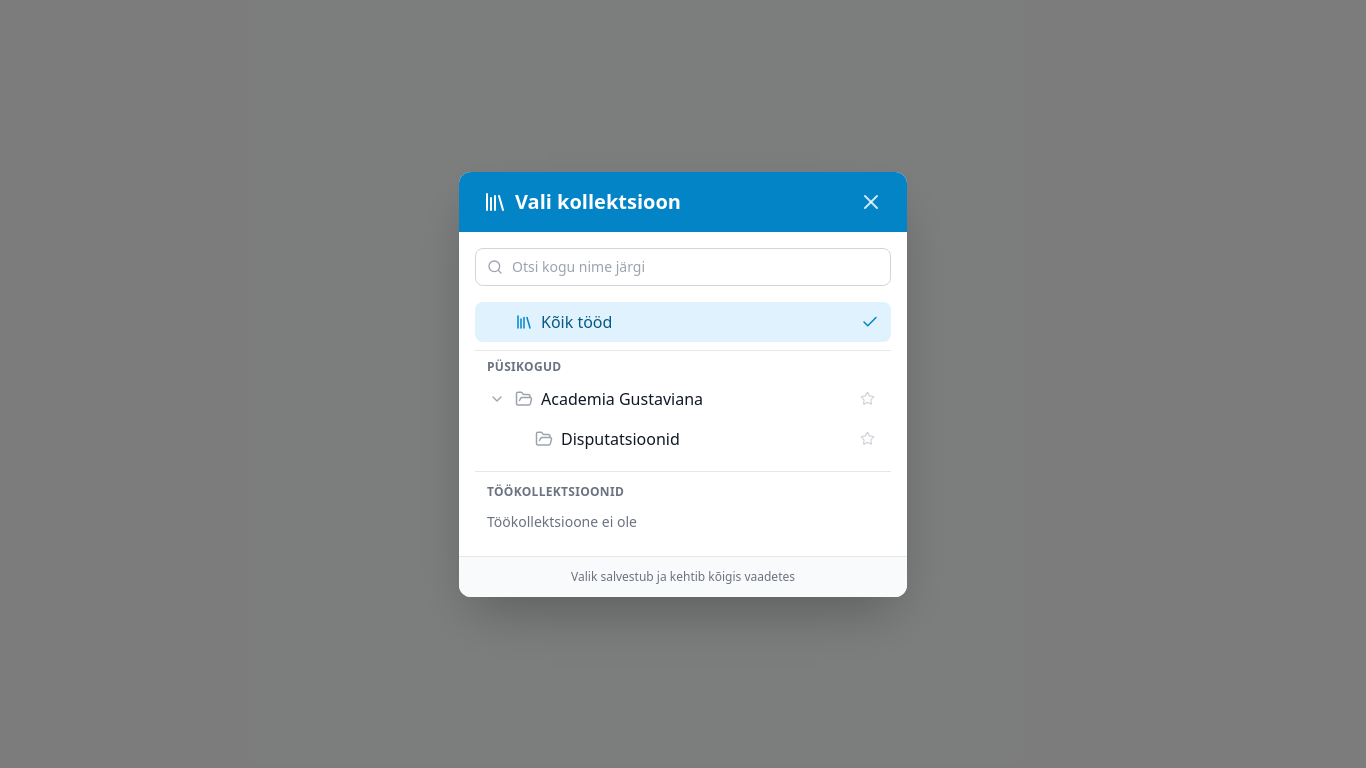
Test case: CollectionPicker — laiendatud tippkollektsioonid › ei ava kasutaja kokkuklapitud haru uuesti
Expected: the text "Disputatsioonid" is shown, [561,428,680,450]
Note: Ainus nupp ilma tekstita tipprea ees on laiendamise lüliti.
Click the button without text below "Püsikogud". click: (497, 398)
box: [487,388,507,408]
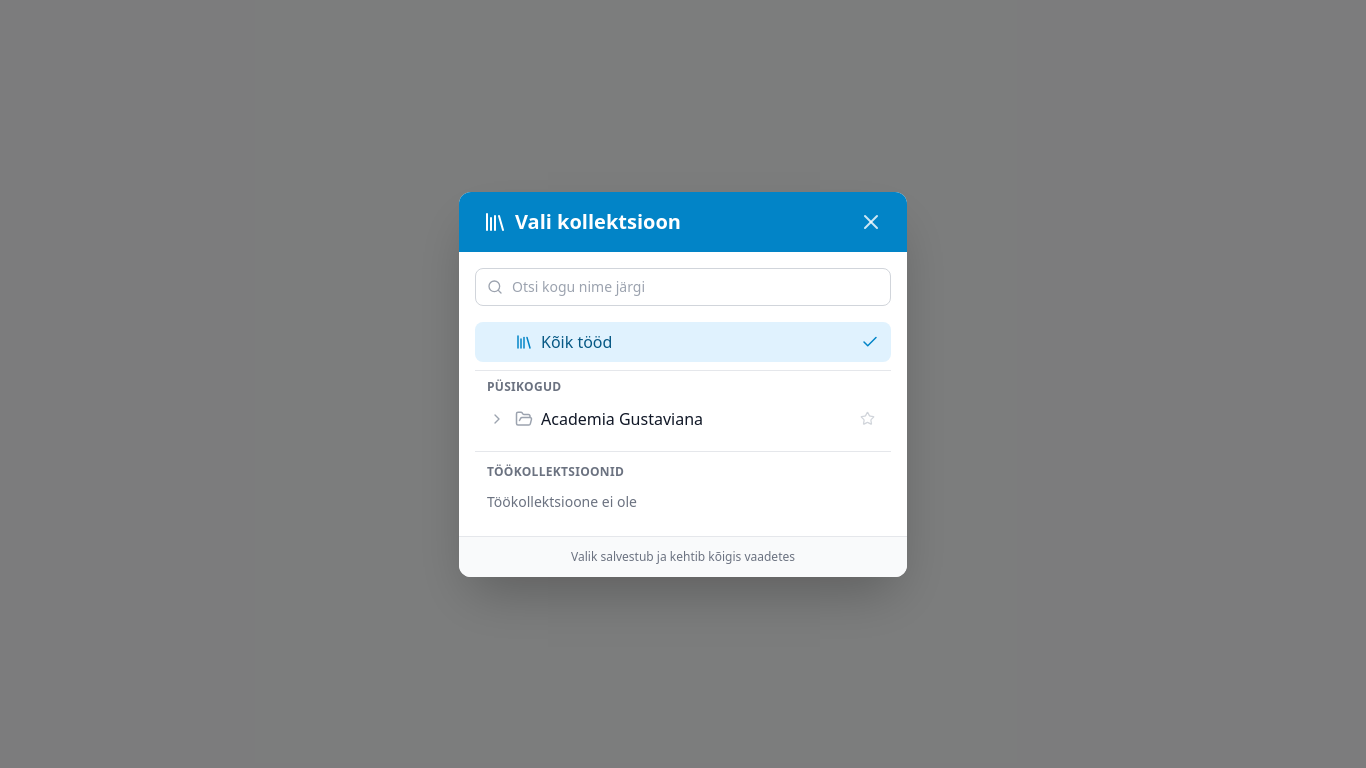
Expected: the button "Disputatsioonid" is gone
